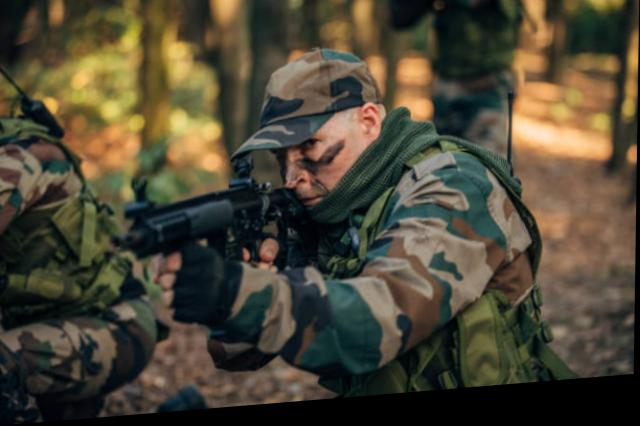other: (164, 42, 560, 411), (0, 67, 161, 424)
